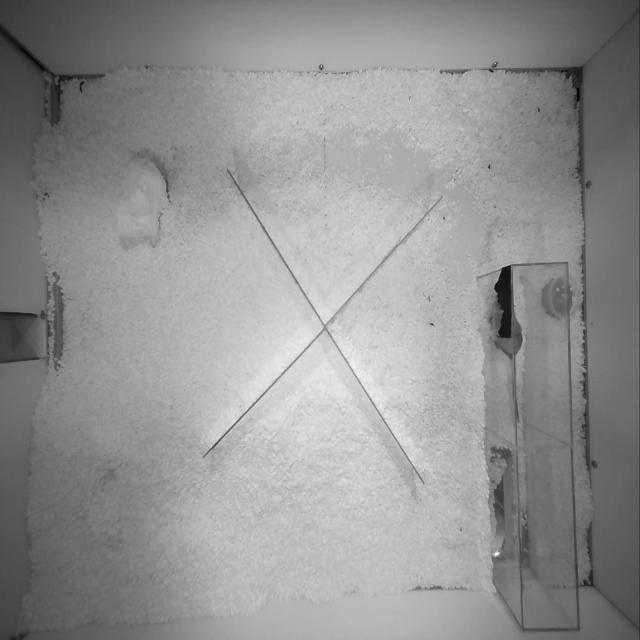adult_back: (490, 267, 523, 425)
